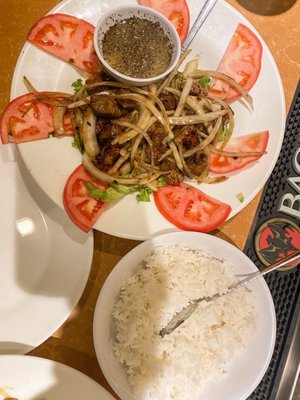sushi: (92, 230, 276, 400), (94, 2, 181, 87)
